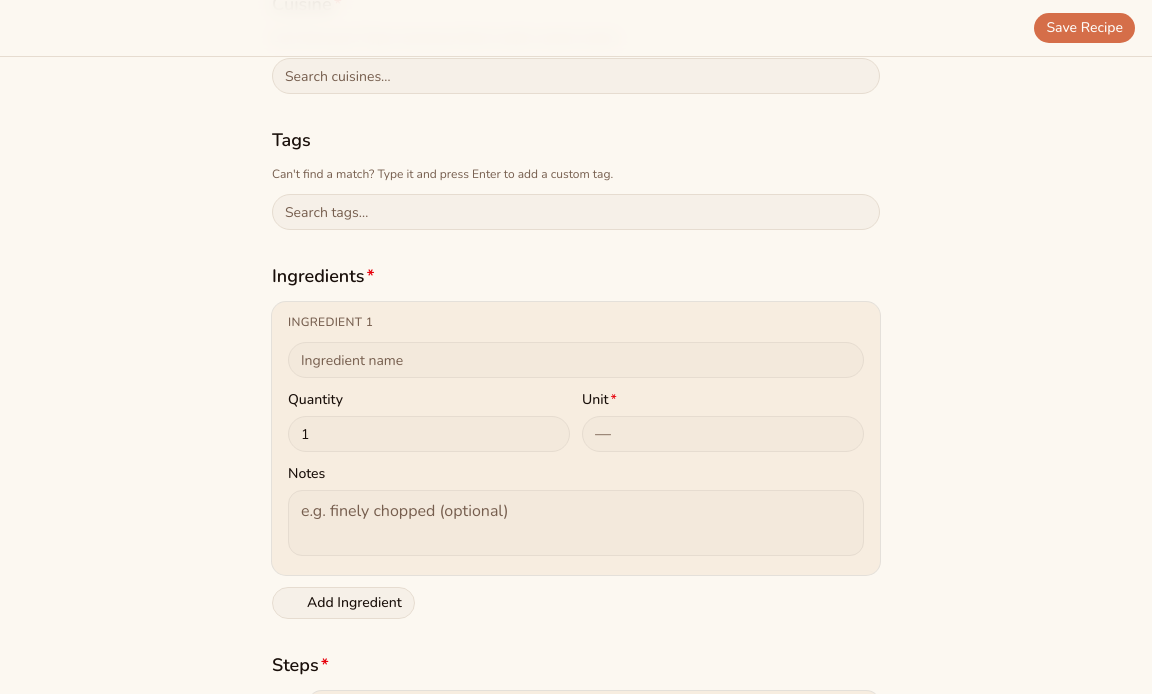
RecipeForm › validation › shows an inline unit error when an ingredient has a name but no unit selected
(page scrolled)
Type "flour" into the field with placeholder "Ingredient name" at (576, 360), box top-left (288, 342), bottom-right (864, 378)
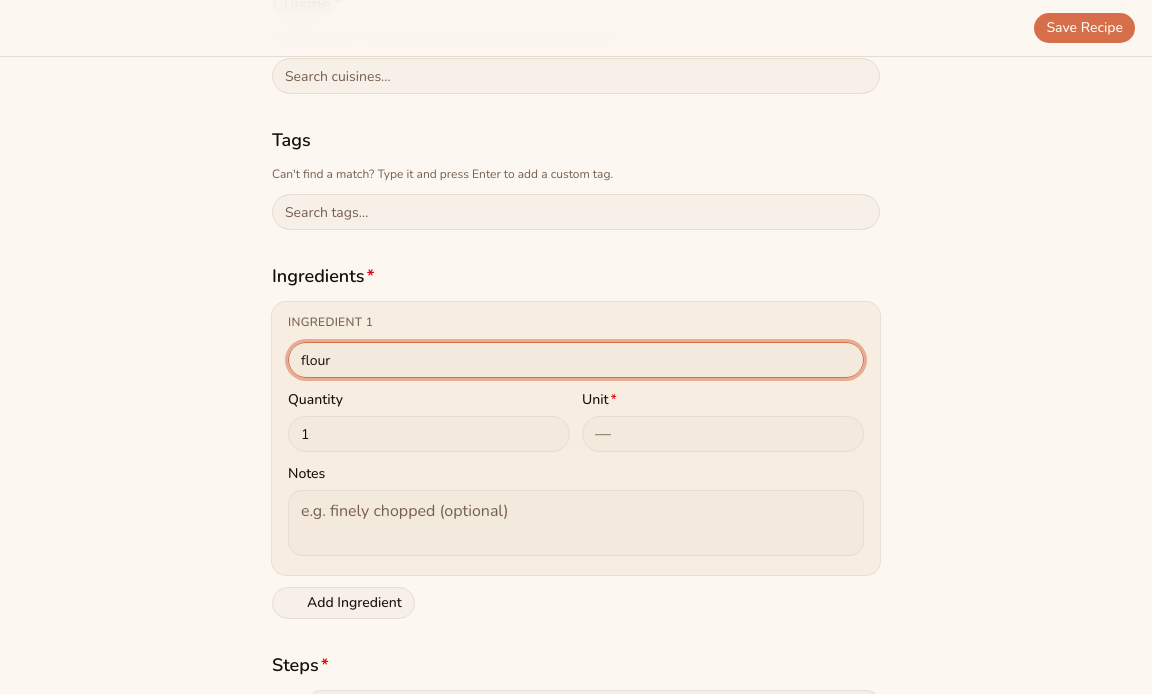
Click the button "Save Recipe" at (1085, 28), box top-left (1033, 12), bottom-right (1136, 44)
(page scrolled)
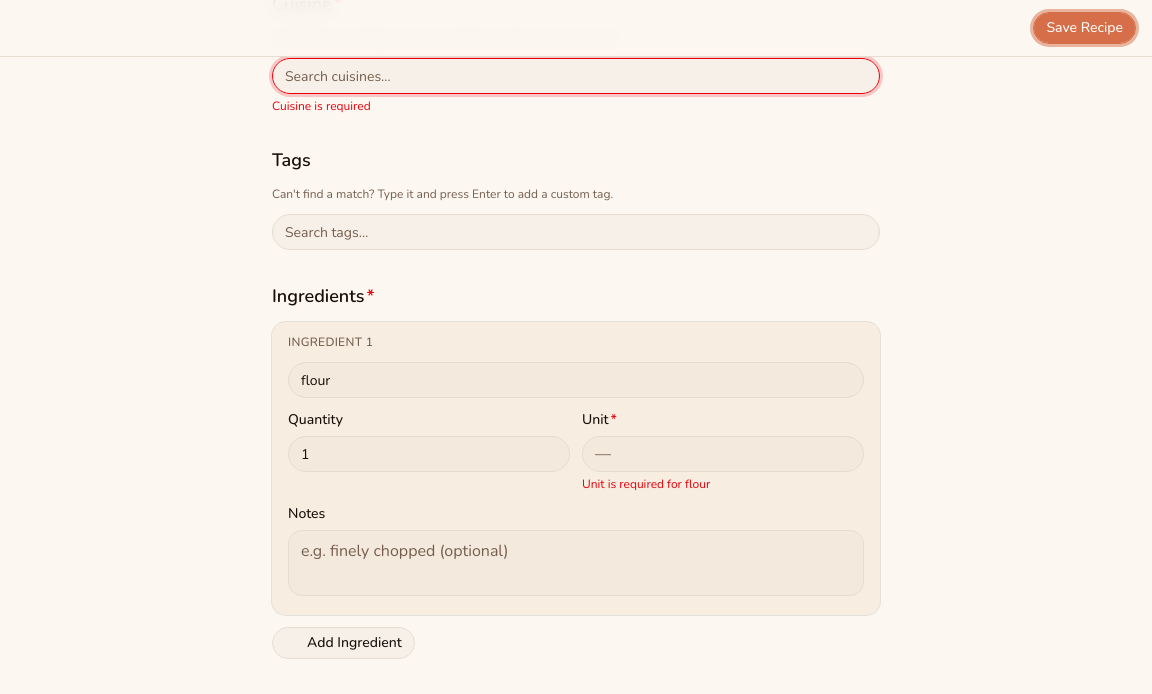
Check: the text "Unit is required for flour" is shown, box top-left (582, 476), bottom-right (710, 492)
